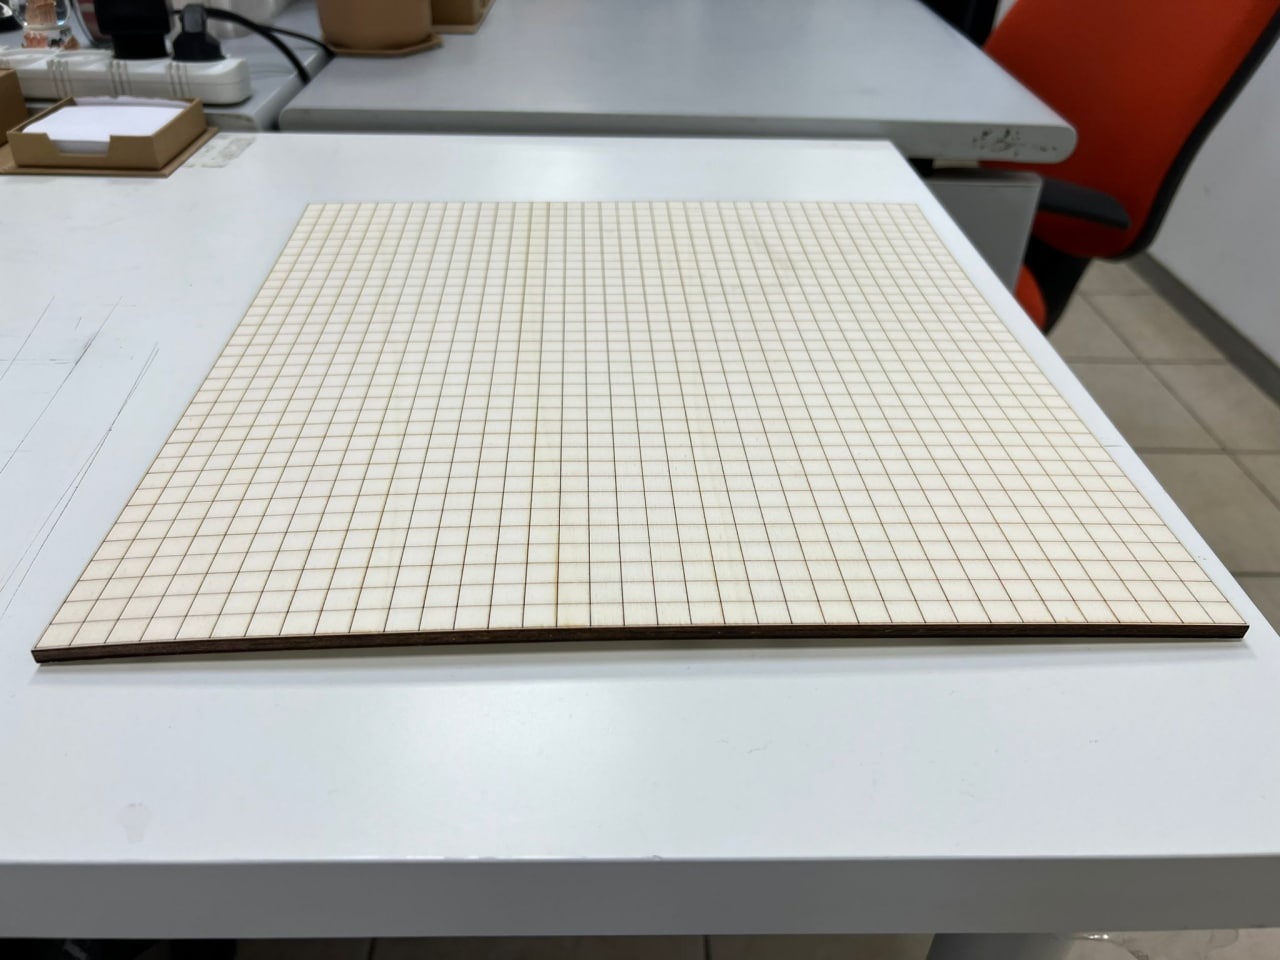grid: (29, 189, 1260, 673)
